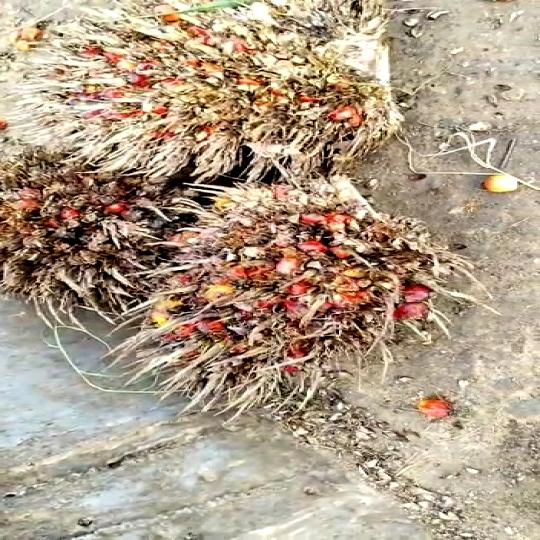terlalu masak: (106, 177, 448, 399), (0, 9, 426, 172)
